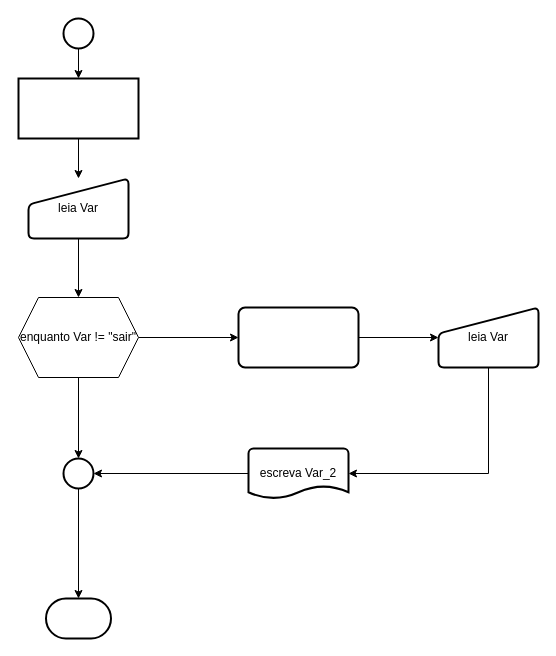
This 556x656 diagram has some shape labels left out. The box of each missing label's shape, as (x1, y1, x2, y2) in pixels:
cadeia Var = " " cadeia Var_2 = "": (17, 77, 139, 139)
Var = Var_2: (237, 306, 359, 368)
